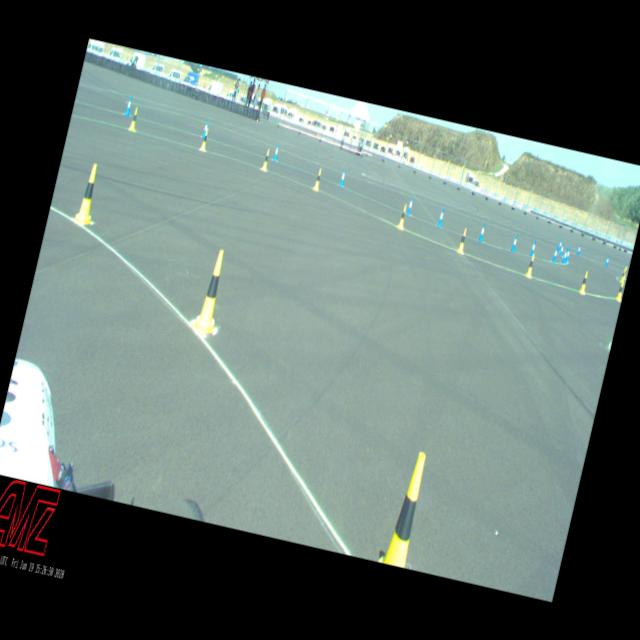blue_cone: (124, 94, 134, 116), (436, 206, 446, 228), (478, 222, 487, 242), (405, 195, 414, 215), (509, 232, 518, 252), (338, 168, 347, 188), (272, 143, 280, 161), (201, 118, 209, 136), (529, 238, 536, 256), (551, 246, 558, 262), (558, 242, 565, 256), (562, 247, 568, 263), (564, 246, 570, 262), (576, 243, 582, 256), (556, 238, 562, 251), (604, 255, 610, 267)
yellow_cone: (377, 448, 430, 567), (190, 246, 232, 338), (73, 161, 104, 226), (456, 226, 468, 254), (396, 203, 408, 230), (128, 106, 140, 130), (578, 270, 590, 294), (260, 147, 272, 171), (199, 127, 211, 151), (525, 252, 536, 278), (312, 167, 323, 191), (614, 279, 626, 301), (620, 267, 626, 282), (623, 265, 628, 280)
